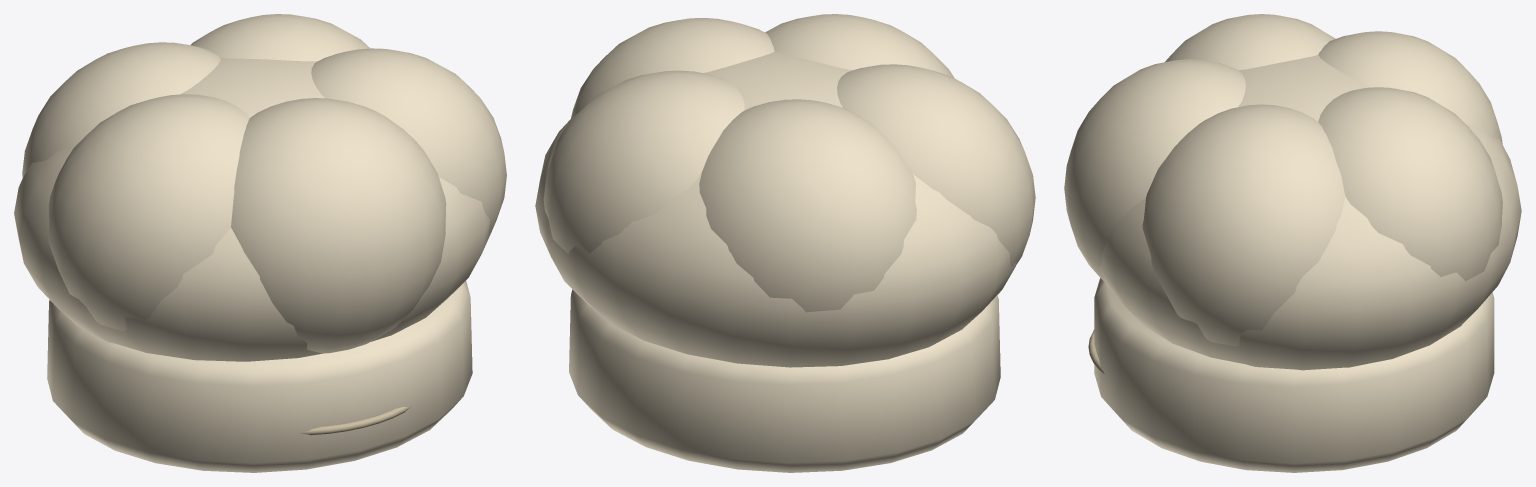
File: chef.glb
The picture shows the model from 3 angles, left to right: view 1: azimuth 30°, elevation 25°; view 2: azimuth 150°, elevation 25°; view 3: azimuth 270°, elevation 25°; orthographic projection. The views are drawn at different scales.
Parts seen in each view (by area): view 1: hatBand, softPleat0, softPleat4, chefCrown, softPleat1, softPleat3, softPleat2, bandStitch; view 2: chefCrown, hatBand, softPleat3, softPleat2, softPleat4, softPleat1, softPleat0; view 3: hatBand, chefCrown, softPleat1, softPleat2, softPleat0, softPleat3, softPleat4.
Part boxes in pixels (<box>): hatBand: <box>47,281,472,472</box>; softPleat0: <box>231,98,446,353</box>; softPleat4: <box>48,94,249,331</box>; chefCrown: <box>14,57,489,361</box>; softPleat1: <box>311,48,506,235</box>; softPleat3: <box>22,42,220,177</box>; softPleat2: <box>190,14,370,61</box>; bandStitch: <box>300,406,411,435</box>; chefCrown: <box>535,51,1016,367</box>; hatBand: <box>569,289,1000,472</box>; softPleat3: <box>699,99,916,312</box>; softPleat2: <box>543,70,744,253</box>; softPleat4: <box>837,64,1035,266</box>; softPleat1: <box>571,18,774,118</box>; softPleat0: <box>765,14,954,78</box>; hatBand: <box>1094,278,1494,472</box>; chefCrown: <box>1099,55,1521,370</box>; softPleat1: <box>1142,104,1344,346</box>; softPleat2: <box>1318,87,1502,281</box>; softPleat0: <box>1064,59,1245,281</box>; softPleat3: <box>1318,31,1502,144</box>; softPleat4: <box>1165,14,1335,70</box>.
Bounding box in the file's own units: 0.5152 × 0.3658 × 0.4804.
